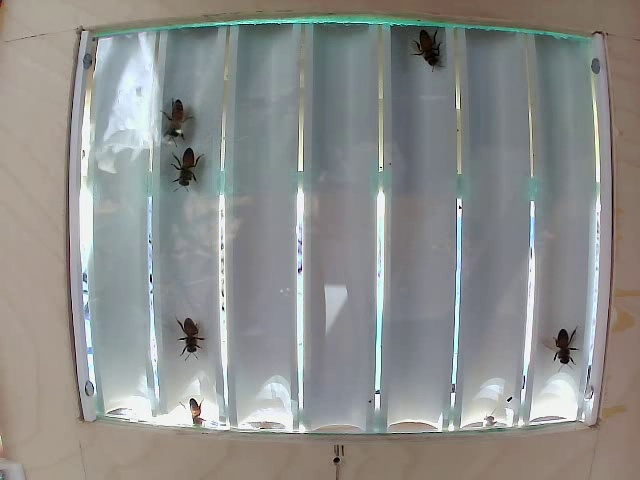bee: (180, 311, 217, 361), (159, 102, 194, 147), (173, 158, 207, 194)
